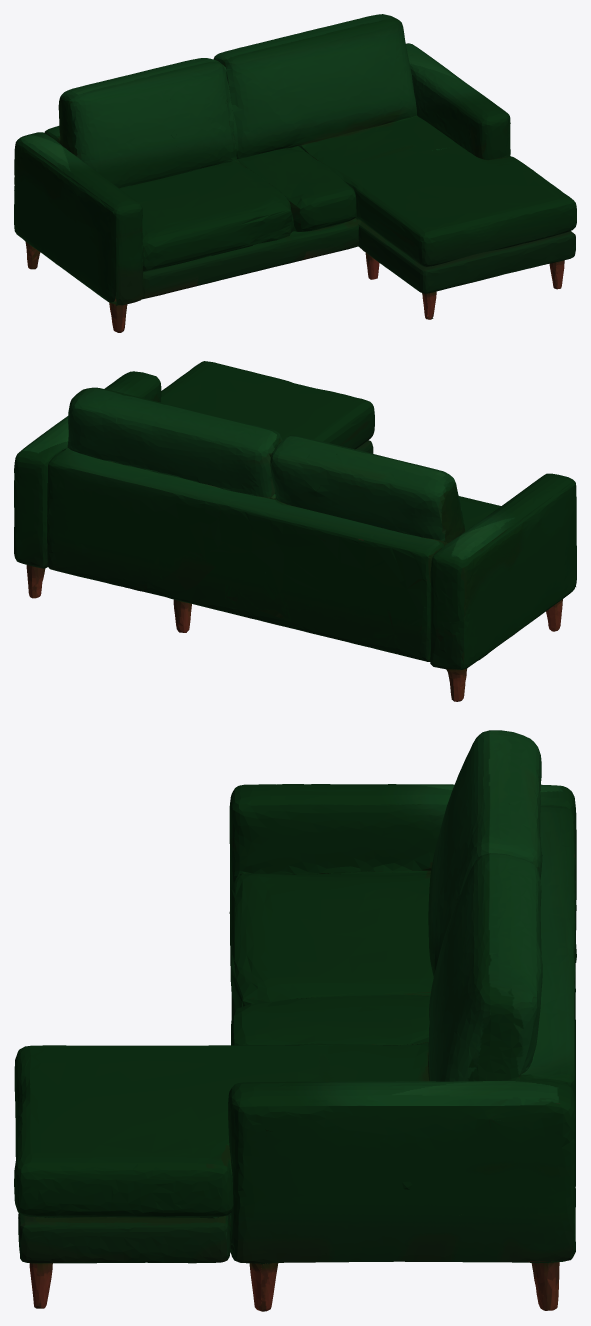
File: Sofa.fbx
3 renders of one model, top to bottom at view 1: azimuth 30°, elevation 25°; view 2: azimuth 150°, elevation 25°; view 3: azimuth 270°, elevation 25°, orthographic. The views are drawn at different scales.
Parts seen in each view (by area): view 1: geometry_0; view 2: geometry_0; view 3: geometry_0.
Part boxes in pixels (box(x1,y1,x2,y2)): geometry_0: box(14, 14, 576, 332); geometry_0: box(14, 361, 576, 701); geometry_0: box(14, 730, 576, 1311).
Size of the model in its own units: 2 by 0.8664 by 1.46.
Materials: 1 (1 with a texture image).
